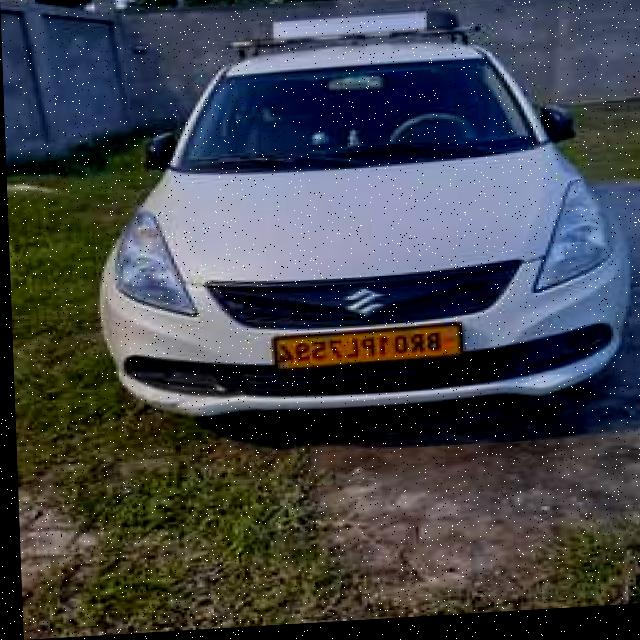plate: (271, 325, 463, 375)
